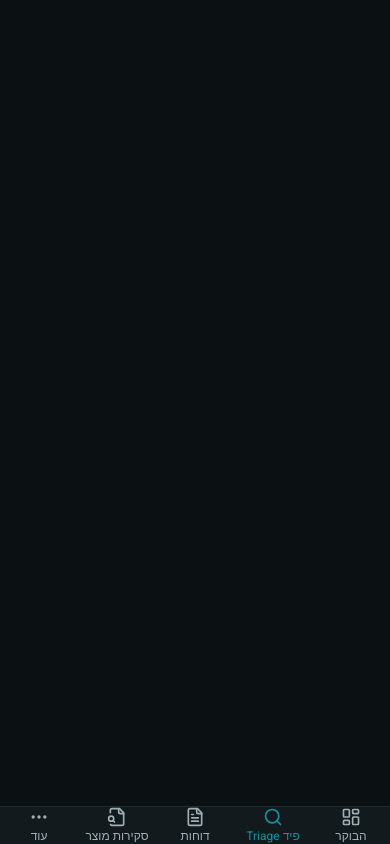
Scenario: MobileNav (phone bottom tab bar, defect #4) › closes the sheet on Escape
Click the button with test id "mobile-nav-more" at (39, 826), box 0,807 -> 78,843
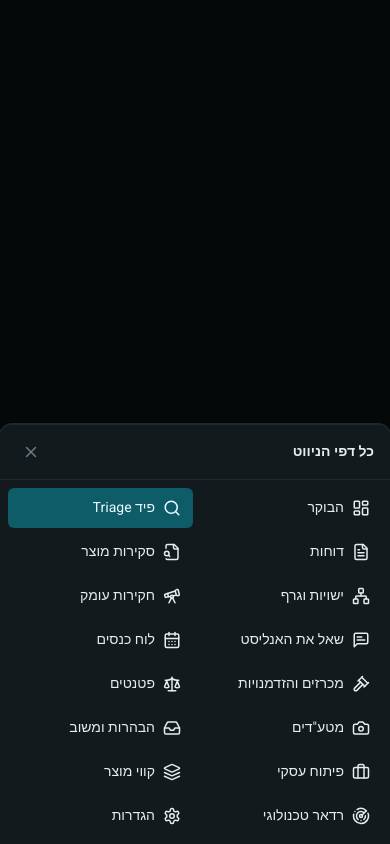
Now the dialog with test id "mobile-nav-more-sheet" is shown, box 0,424 -> 389,843
Press Escape
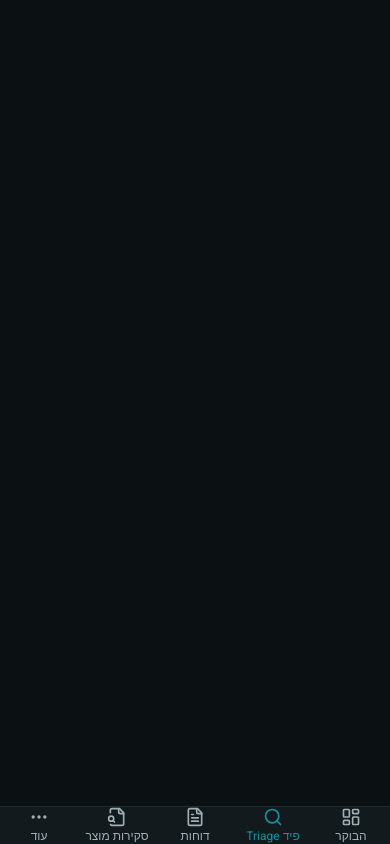
Now the dialog with test id "mobile-nav-more-sheet" is gone
